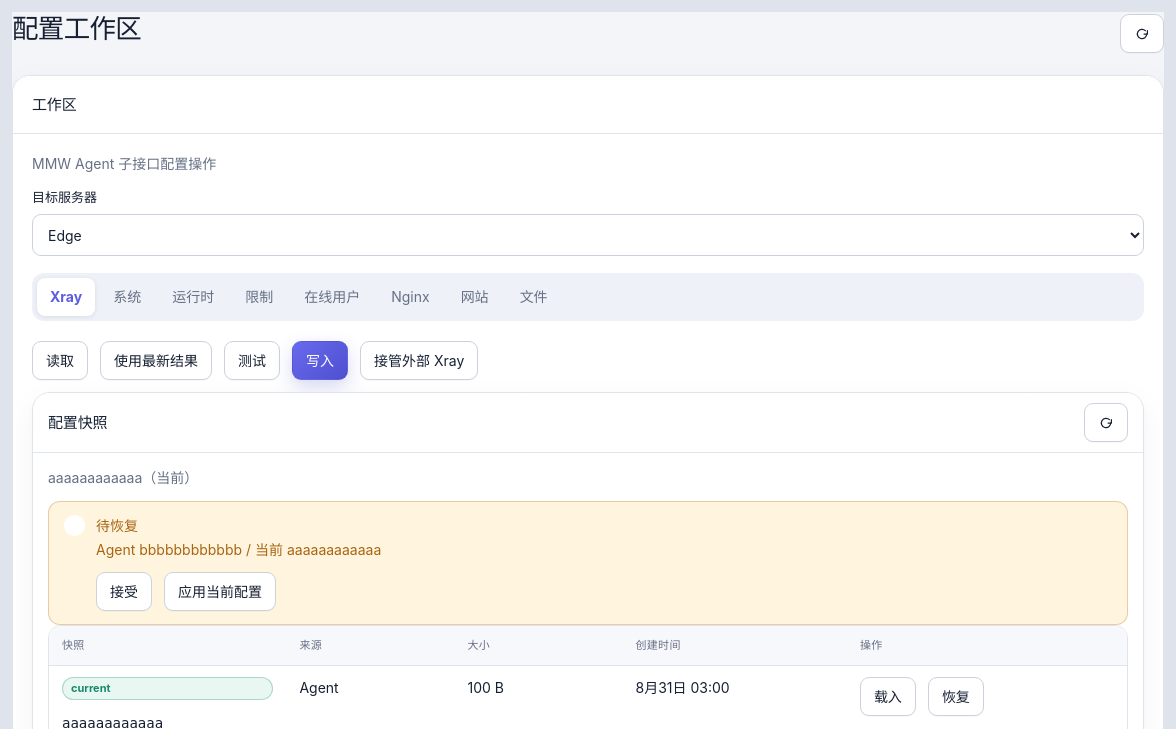
it: React configuration workspace › honors fixed gRPC endpoints and server capability gates
Click the tab "系统": x=127, y=297 x1=100 y1=278 x2=154 y2=316
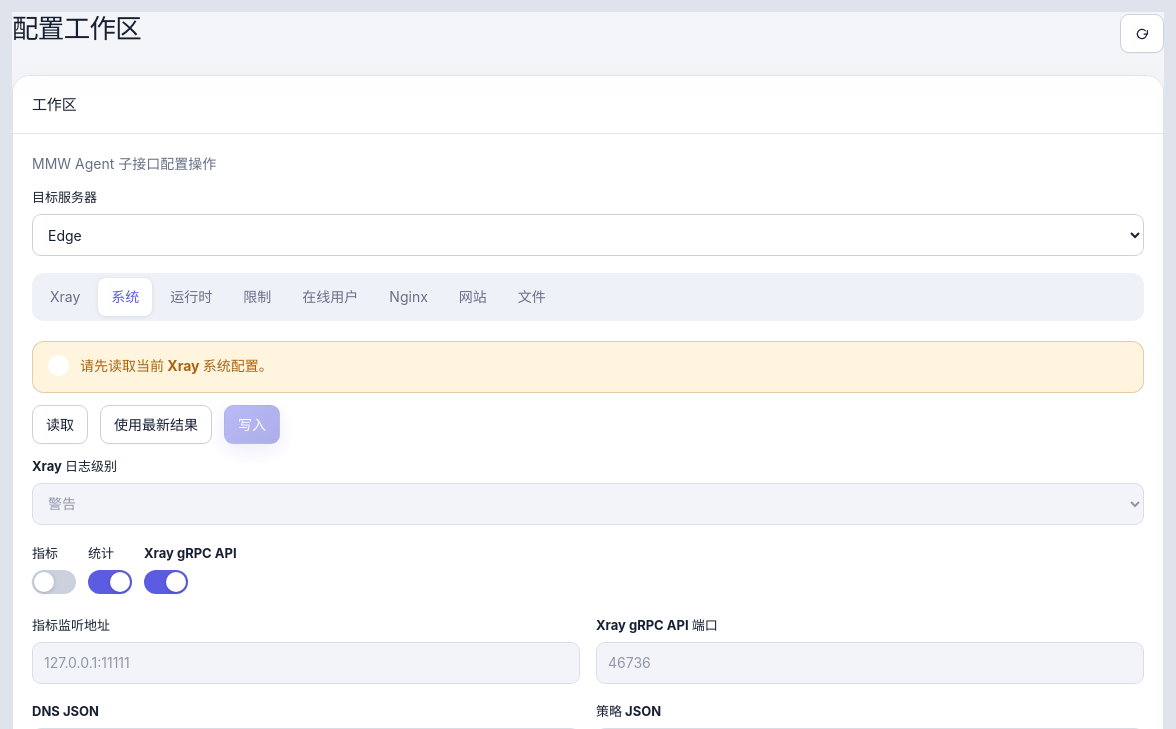
Click the button "使用最新结果": x=156, y=424 x1=100 y1=405 x2=212 y2=444
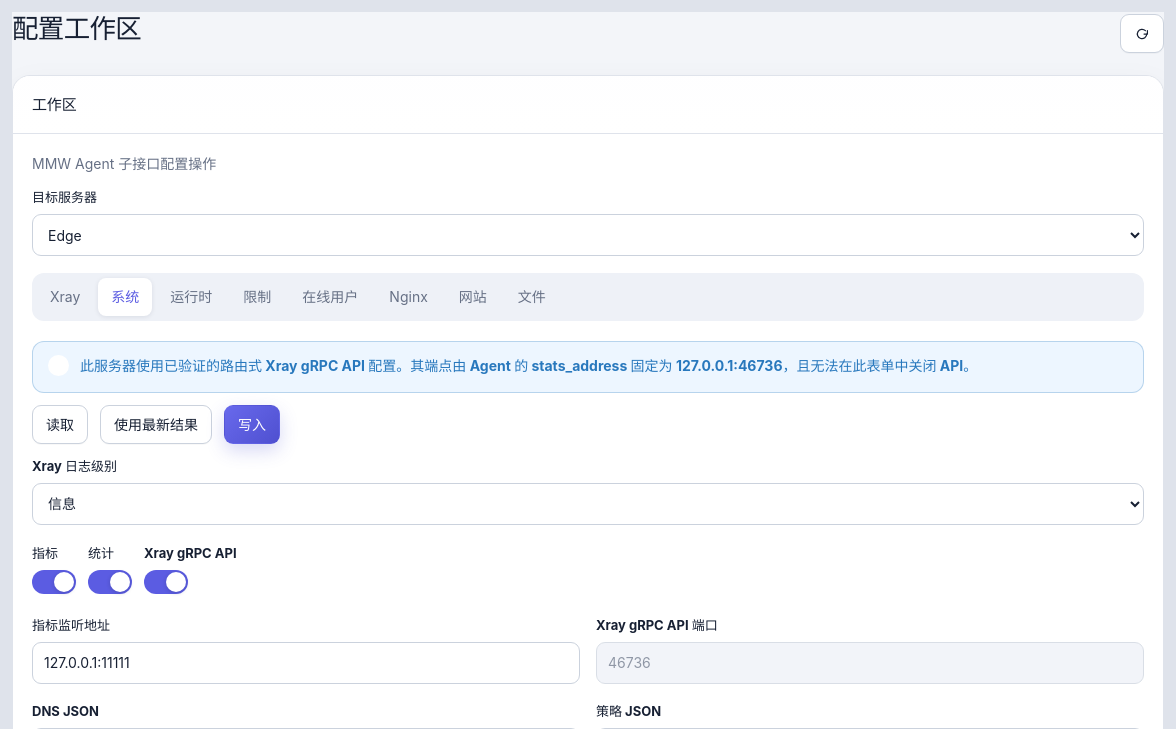
Now the number field named "Xray gRPC API 端口" is disabled, box x1=596 y1=642 x2=1144 y2=684
Now the switch named "指标" is enabled, box x1=32 y1=570 x2=76 y2=594
Press the mouse on the dropdown named "目标服务器": x=588, y=235 x1=32 y1=214 x2=1144 y2=256
Select "Other" in the dropdown named "目标服务器": x=588, y=235 x1=32 y1=214 x2=1144 y2=256
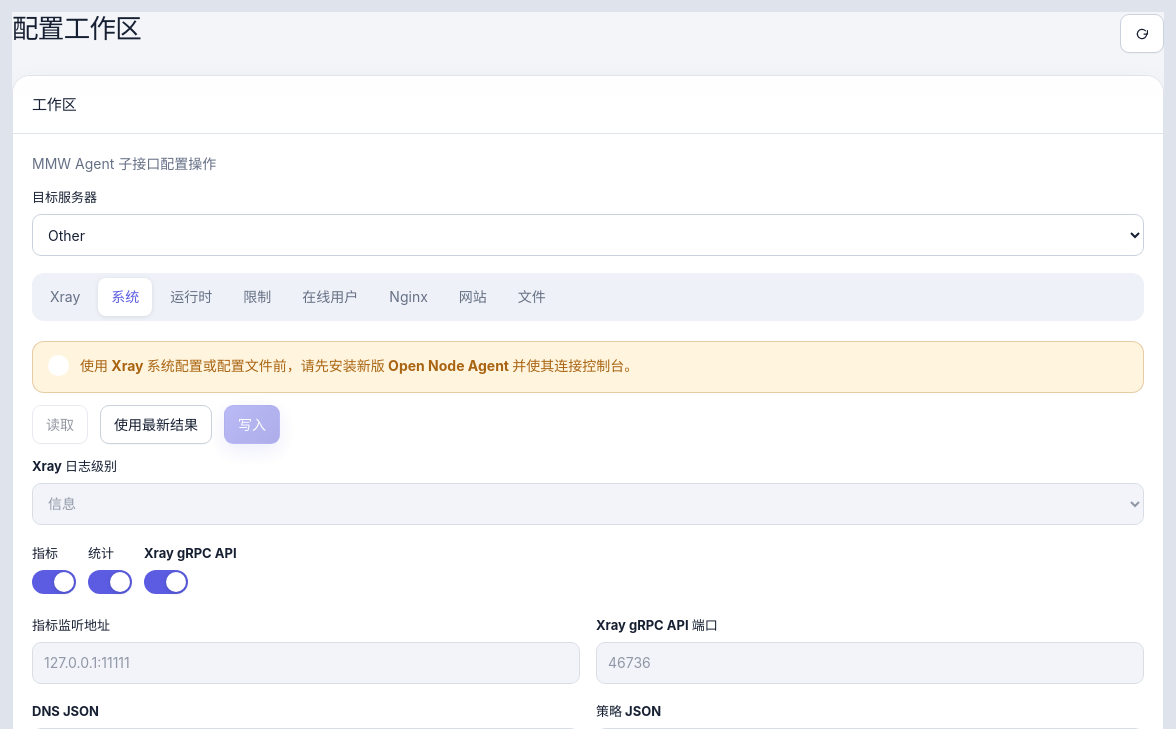
Now the button "读取" is disabled, box x1=32 y1=405 x2=88 y2=444
Now the text "使用 Xray 系统配置或配置文件前，请先安装新版 Open Node Agent 并使其连接控制台。" is shown, box x1=80 y1=357 x2=638 y2=374
